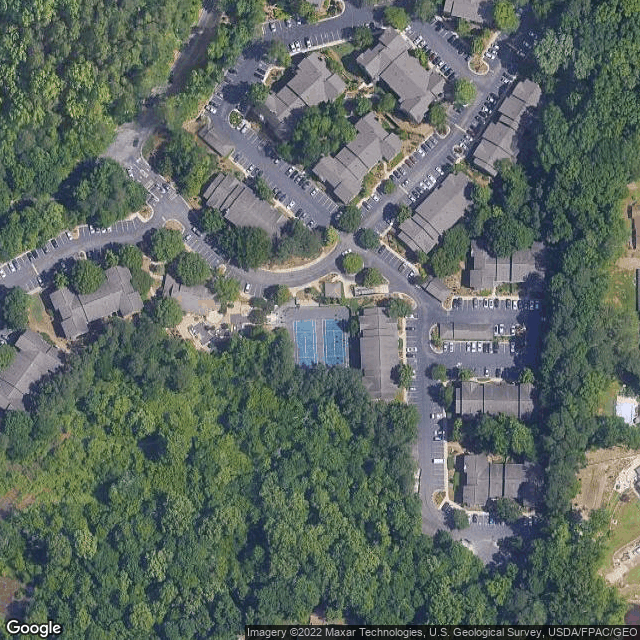Court: (292, 319, 318, 370), (322, 317, 346, 368)
